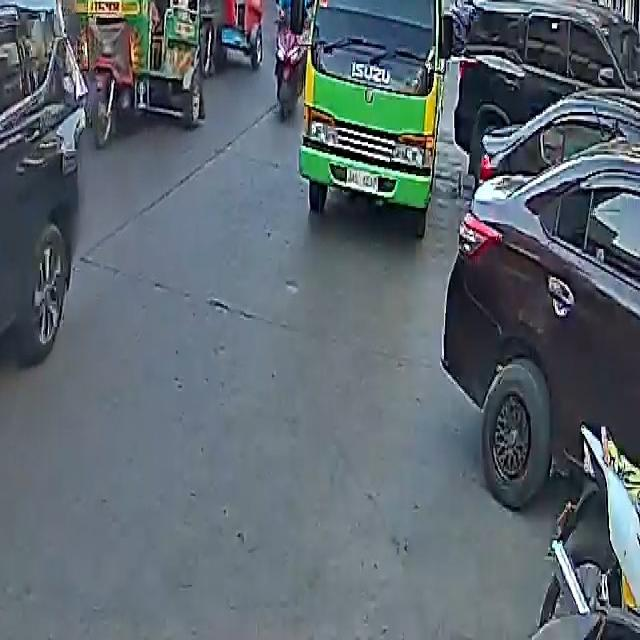car: (442, 146, 640, 533), (0, 0, 92, 601), (449, 0, 639, 188)
